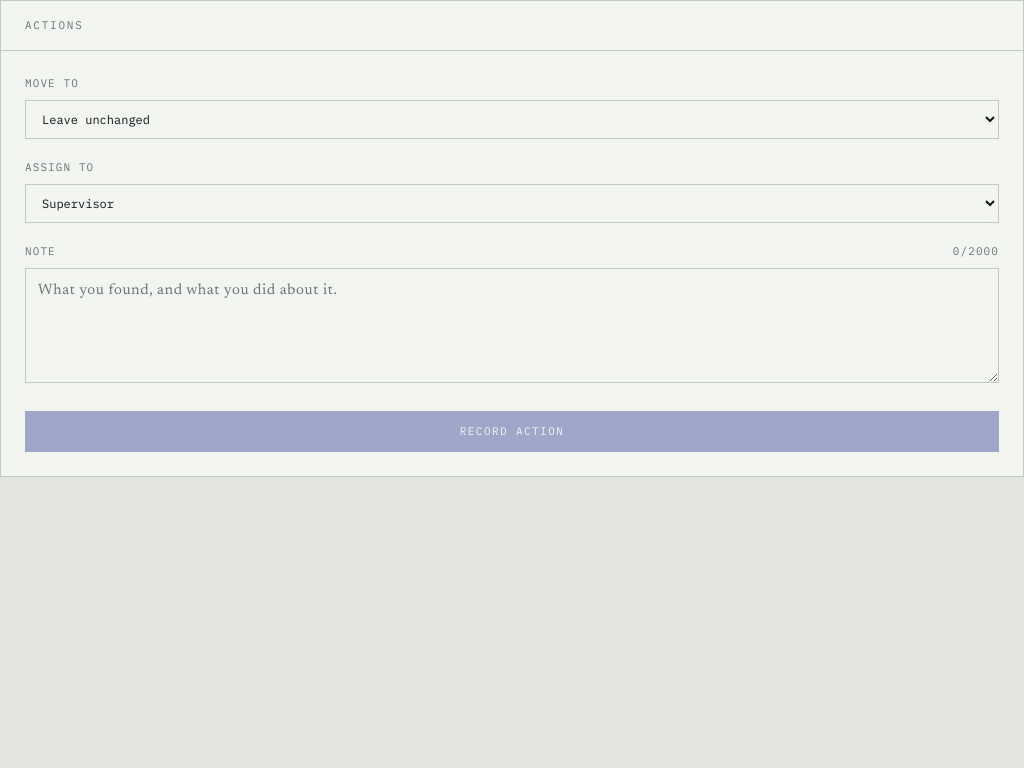
Test case: AlertActions request body › shows the new assignee straight away, before the refetch lands
This screenshot has width=1024, height=768.
Select "Analyst" in the dropdown labelled "Assign to" at [512, 204], box [25,184,999,223]
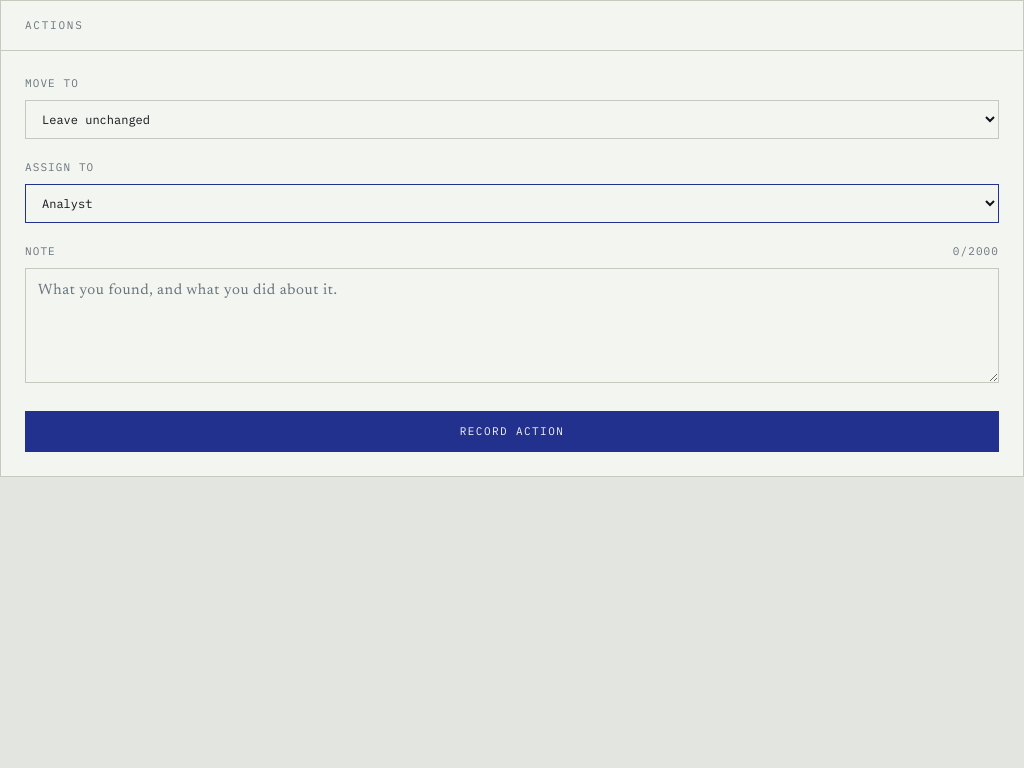
Click the button "Record action" at [512, 432], box [25,411,999,452]
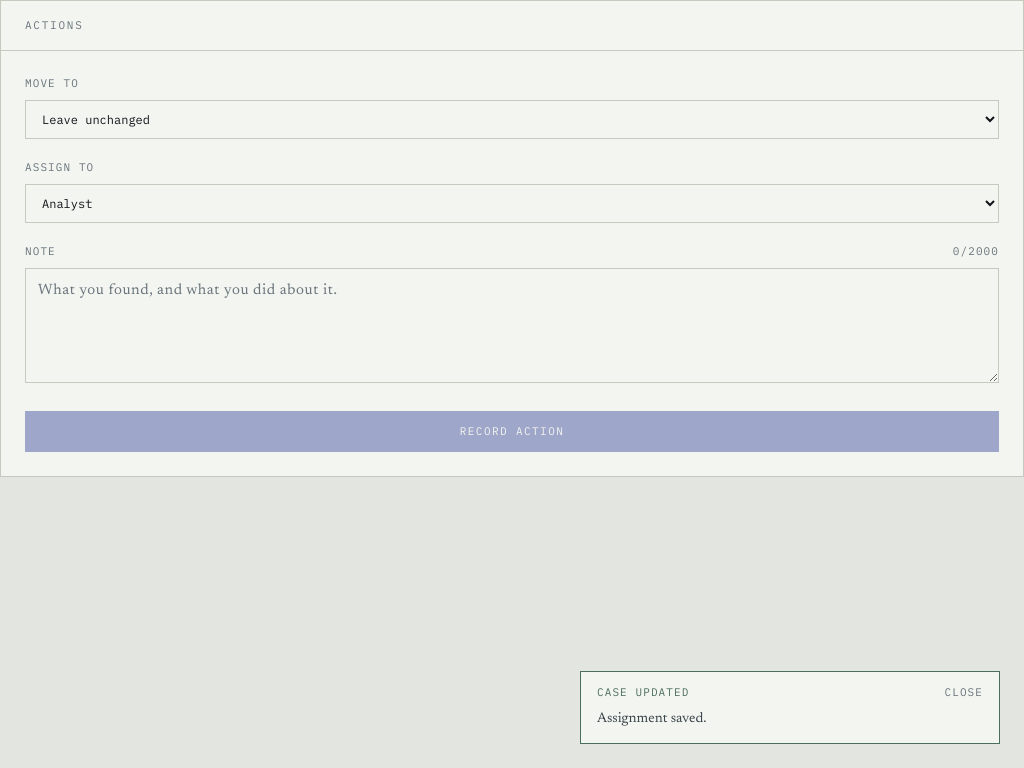
Result: the text "Assignment saved." is shown at [597,712,706,726]
